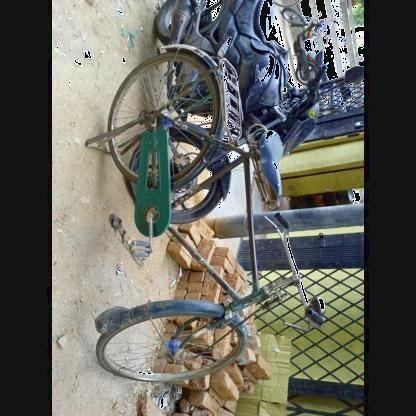Bicycle: (78, 10, 344, 404)
